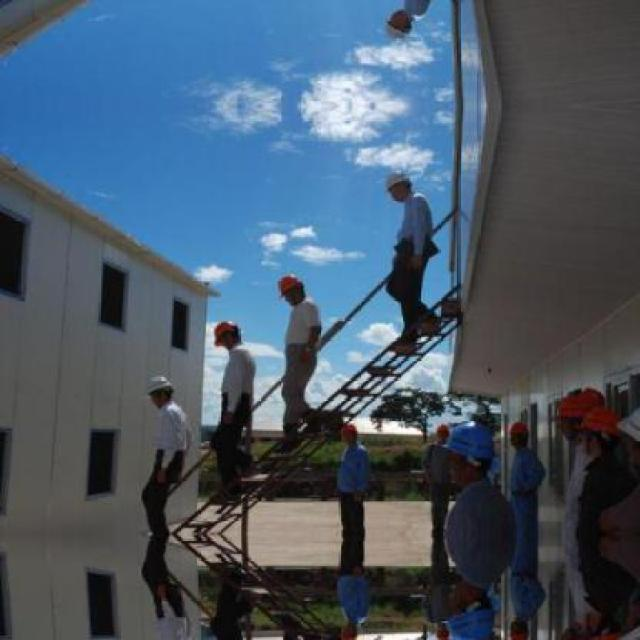helmet: (443, 420, 495, 488), (443, 578, 497, 638), (579, 403, 621, 455), (555, 396, 590, 441), (382, 166, 422, 203), (382, 6, 422, 43), (142, 370, 178, 408), (272, 268, 306, 307), (578, 611, 622, 638), (209, 317, 240, 351), (505, 416, 529, 449), (504, 617, 530, 638), (554, 624, 591, 638), (337, 419, 358, 443), (433, 420, 450, 442), (337, 623, 360, 639), (432, 624, 451, 638)
